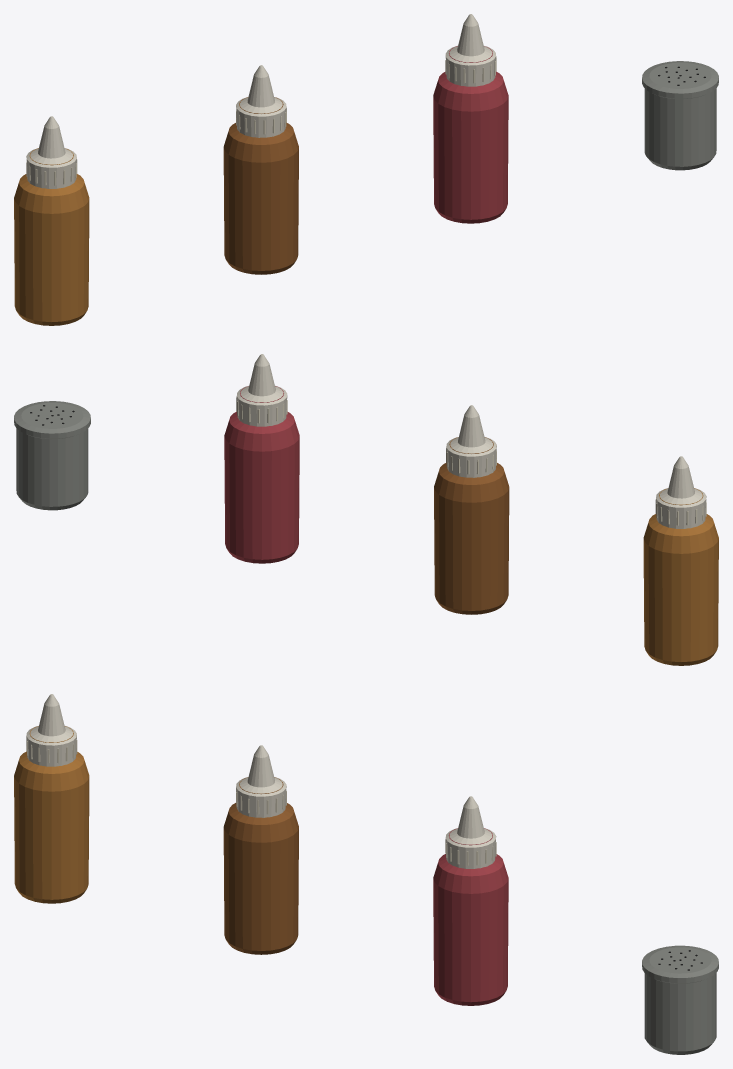
File: sauces.glb
3 views of the same model, one above another, from view 1: azimuth 30°, elevation 25°; view 2: azimuth 150°, elevation 25°; view 3: azimuth 330°, elevation 25° (orthographic).
Visible parts, largest first — view 1: sauces; view 2: sauces; view 3: sauces.
Boxes of the visible parts, x1,y1,x2,y2 form: sauces: (14,14,718,325); sauces: (14,354,718,665); sauces: (14,694,718,1054).
Bounding box in the file's own units: 0.978 × 0.262 × 0.094.
